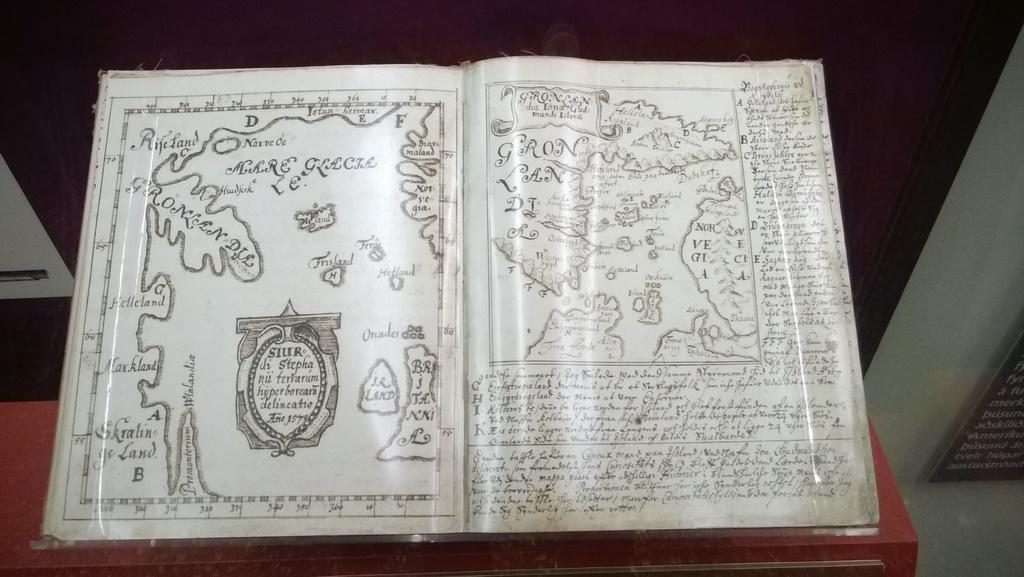book: (29, 54, 881, 543)
